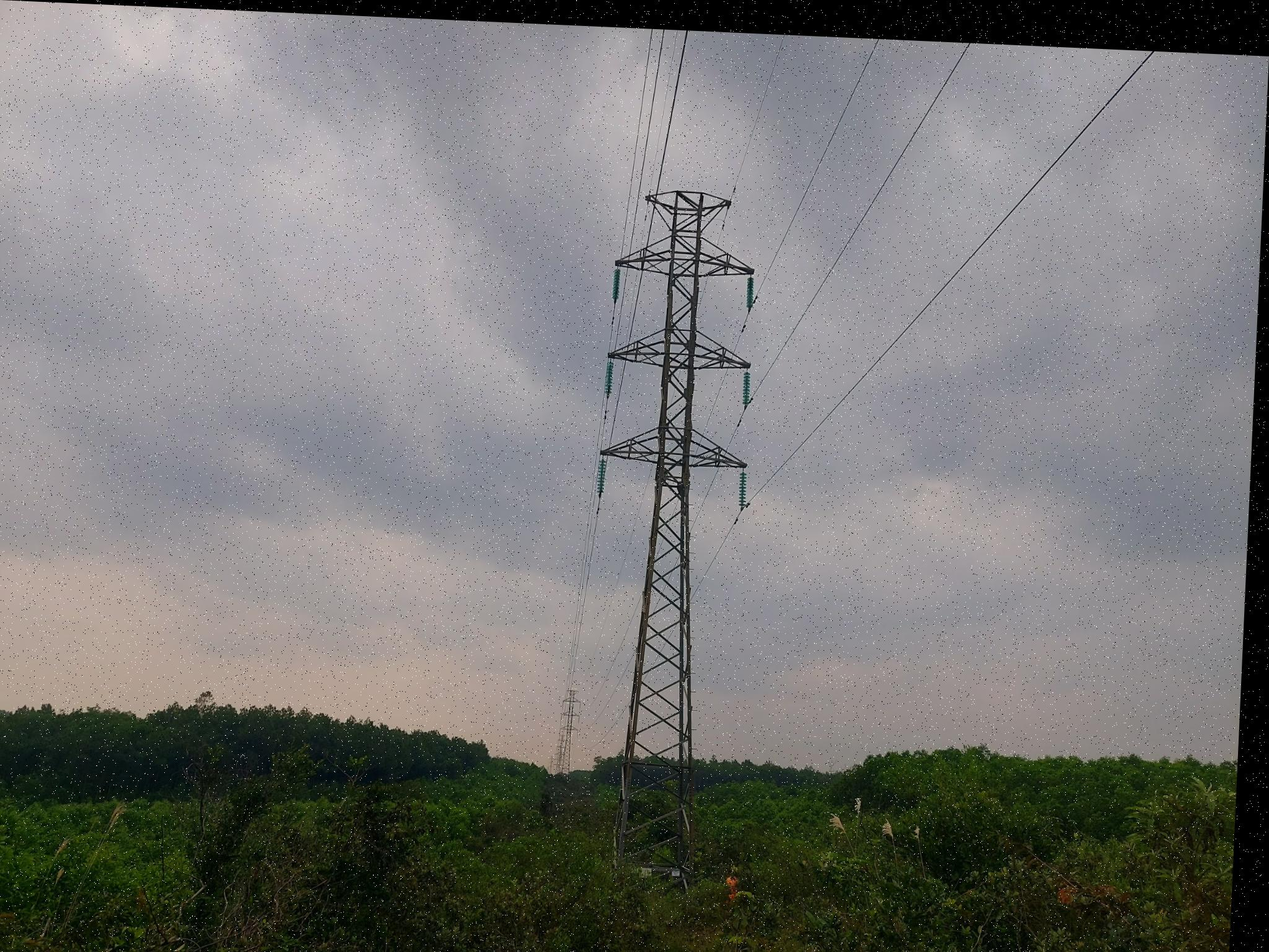tower: (568, 169, 773, 912)
